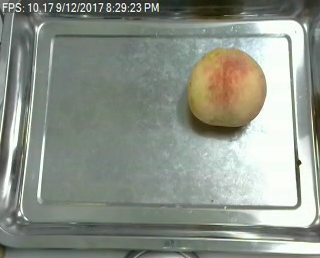Peach: (187, 46, 266, 128)
